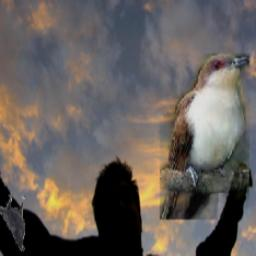Crow: (1, 193, 26, 252)
Cuckoo: (160, 55, 249, 221)
